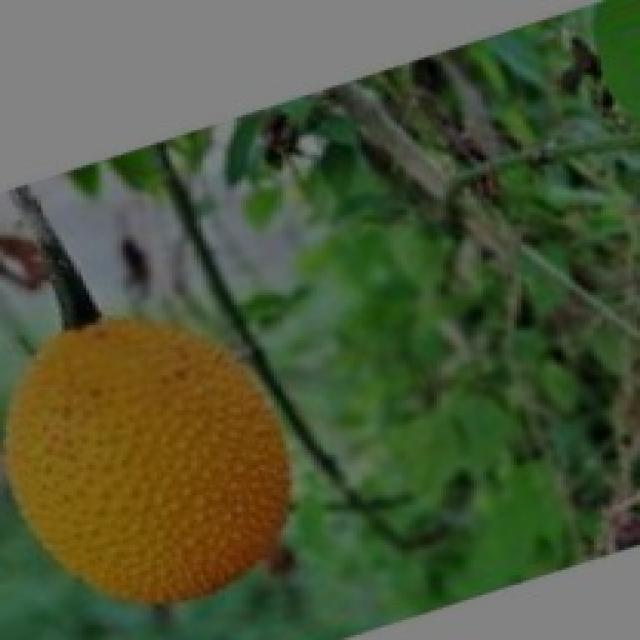Fruit: (0, 285, 348, 637)
